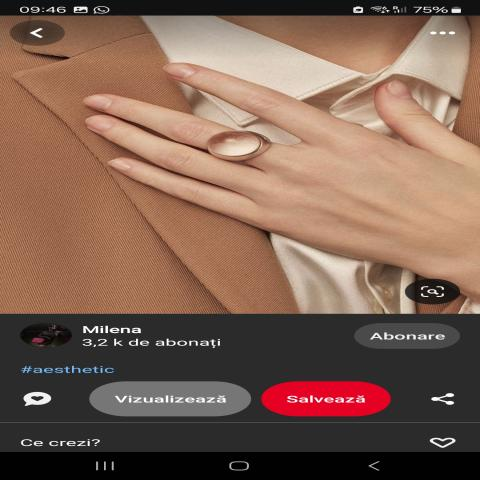hands: (51, 52, 480, 311)
